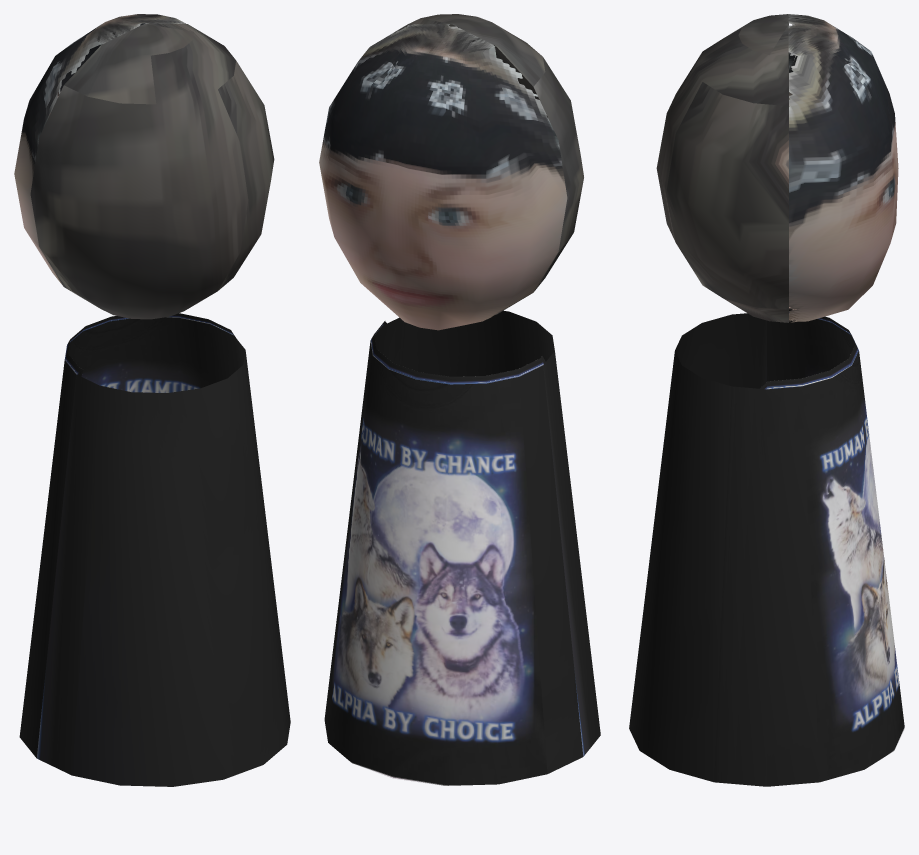
File: lou_mii.fbx
3 views of the same model, side by side, from view 1: azimuth 30°, elevation 25°; view 2: azimuth 150°, elevation 25°; view 3: azimuth 270°, elevation 25° (orthographic).
Visible parts, largest first — view 1: mii.002; view 2: mii.002; view 3: mii.002.
Part boxes in pixels (x1,y1,x2,y2): mii.002: [14, 14, 290, 786]; mii.002: [319, 14, 600, 785]; mii.002: [629, 14, 904, 786].
Size of the model in its own units: 50 by 160 by 50.
Materials: 1 (1 with a texture image).
